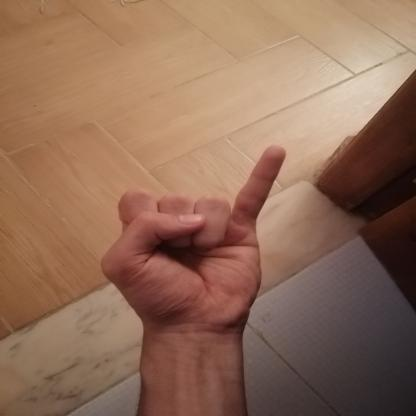MEEM: (76, 130, 309, 343)
